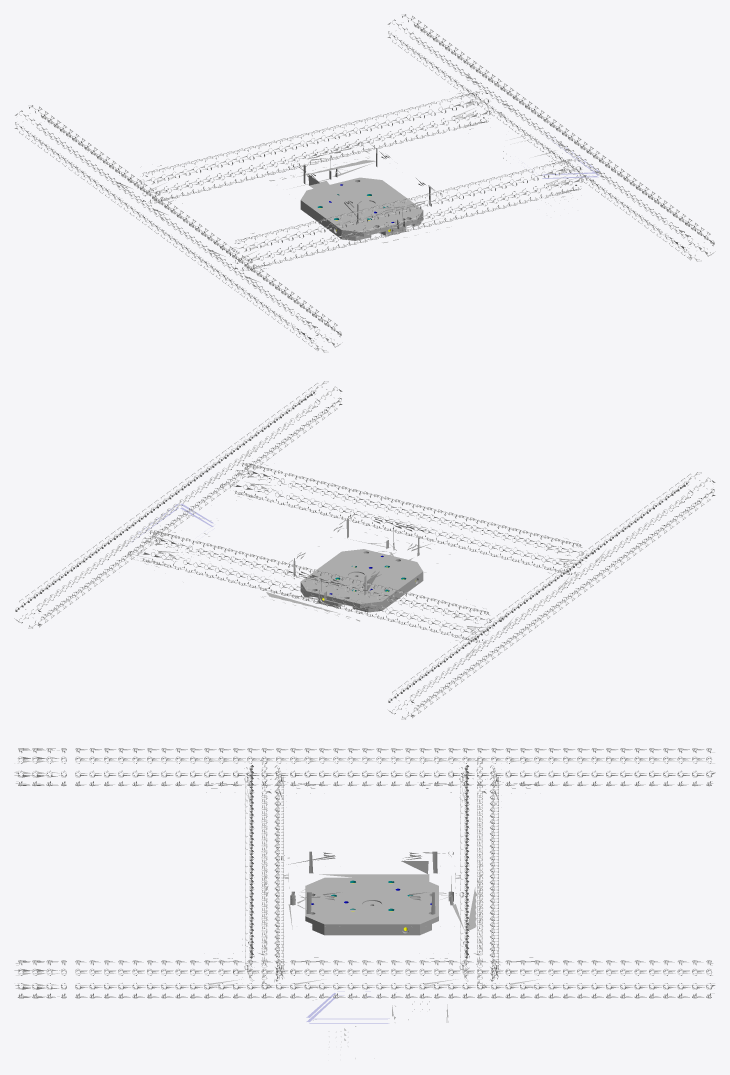
3 renders of one model, top to bottom at view 1: azimuth 30°, elevation 25°; view 2: azimuth 150°, elevation 25°; view 3: azimuth 270°, elevation 25°, orthographic. The views are drawn at different scales.
Parts seen in each view (by area): view 1: F19721000063102514101_001_zb_ub_rahmen_01_fa.1_3D_CUT_1; view 2: F19721000063102514101_001_zb_ub_rahmen_01_fa.1_3D_CUT_1; view 3: F19721000063102514101_001_zb_ub_rahmen_01_fa.1_3D_CUT_1.
Boxes of the visible parts, x1,y1,x2,y2 form: F19721000063102514101_001_zb_ub_rahmen_01_fa.1_3D_CUT_1: [14, 14, 715, 352]; F19721000063102514101_001_zb_ub_rahmen_01_fa.1_3D_CUT_1: [14, 381, 715, 719]; F19721000063102514101_001_zb_ub_rahmen_01_fa.1_3D_CUT_1: [14, 748, 715, 1040].
Size of the model in its own units: 1159 by 1468 by 238.
